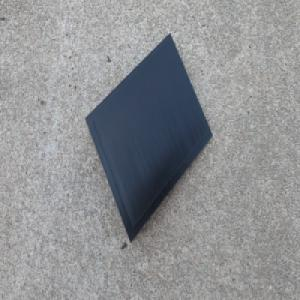PlasticPart: (84, 31, 213, 243)
